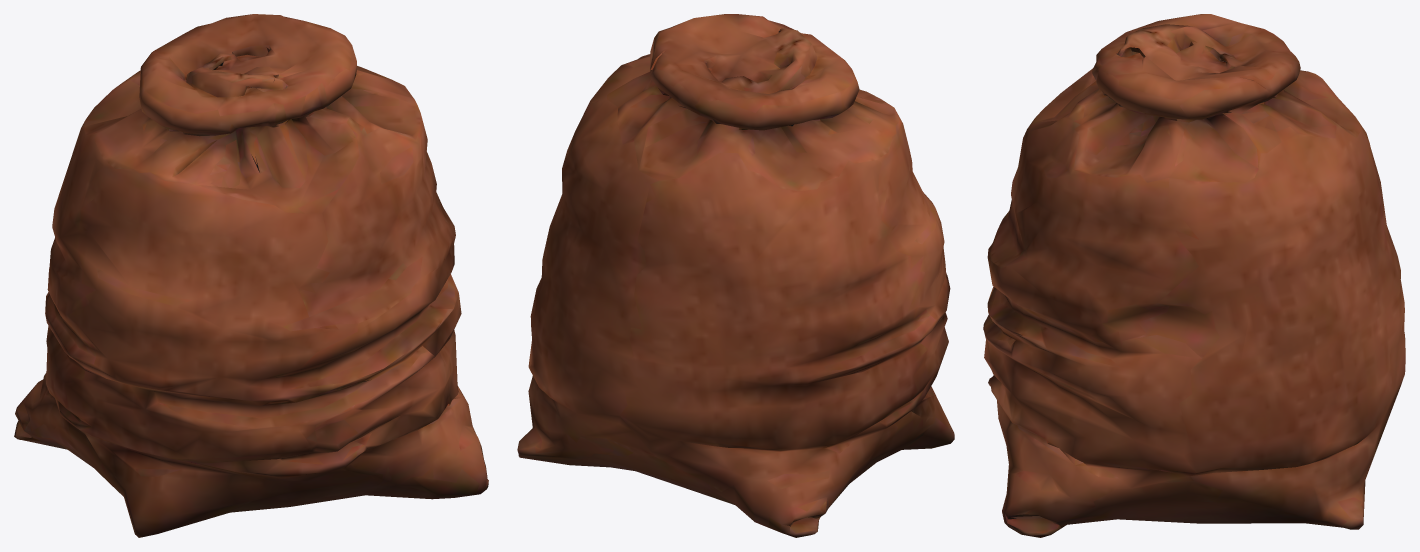
Rendered from chipped-terracotta-sandbag-stack-v001.glb.
3 renders of one model, left to right at view 1: azimuth 30°, elevation 25°; view 2: azimuth 150°, elevation 25°; view 3: azimuth 270°, elevation 25°, orthographic. The views are drawn at different scales.
Parts seen in each view (by area): view 1: chipped-terracotta-sandbag-stack; view 2: chipped-terracotta-sandbag-stack; view 3: chipped-terracotta-sandbag-stack.
Boxes of the visible parts, box(x1,y1,x2,y2) form: chipped-terracotta-sandbag-stack: box(14, 14, 488, 537); chipped-terracotta-sandbag-stack: box(517, 14, 954, 537); chipped-terracotta-sandbag-stack: box(983, 14, 1405, 537).
Size of the model in its own units: 0.8864 by 0.9605 by 0.8716.
1 material, 1 textured.
